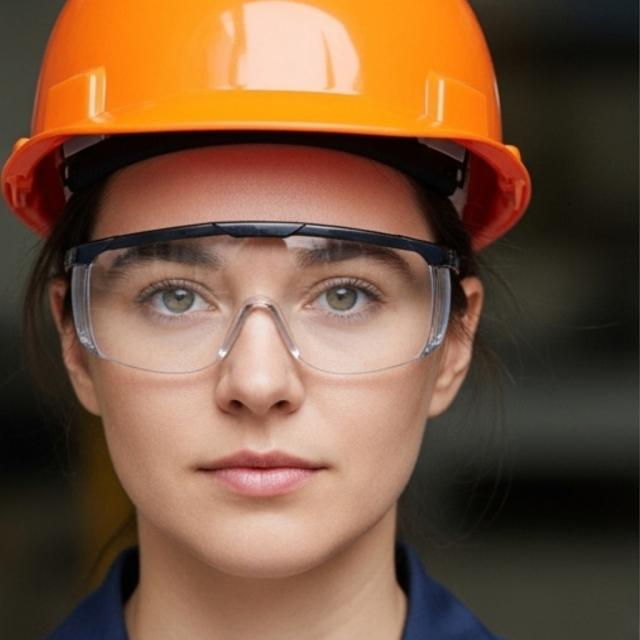oculos-epi: (66, 221, 456, 376)
